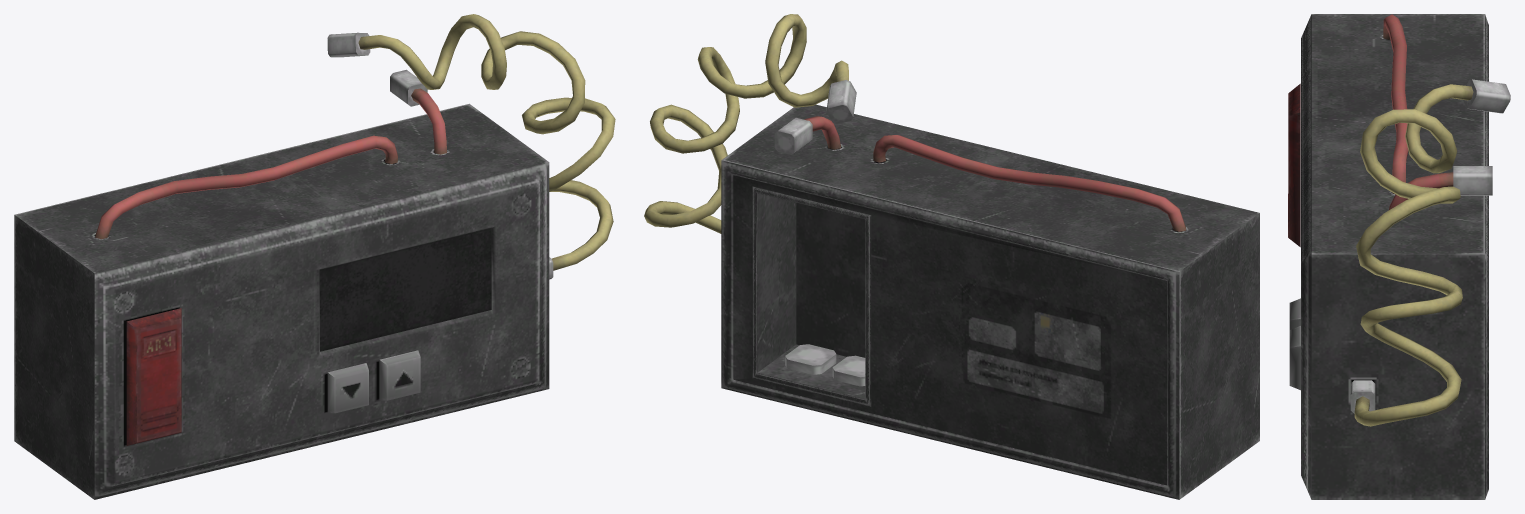
Rendered from sm70_203_blastingfuse01a.fbx.
3 renders of one model, left to right at view 1: azimuth 30°, elevation 25°; view 2: azimuth 150°, elevation 25°; view 3: azimuth 270°, elevation 25°, orthographic. The views are drawn at different scales.
Parts seen in each view (by area): view 1: LOD_1_Group_0_Sub_1__sm70_203_BlastingFuse01A_A_Mat; view 2: LOD_1_Group_0_Sub_1__sm70_203_BlastingFuse01A_A_Mat; view 3: LOD_1_Group_0_Sub_1__sm70_203_BlastingFuse01A_A_Mat.
Part boxes in pixels (left/top/right/bottom): LOD_1_Group_0_Sub_1__sm70_203_BlastingFuse01A_A_Mat: left=14, top=14, right=615, bottom=499; LOD_1_Group_0_Sub_1__sm70_203_BlastingFuse01A_A_Mat: left=644, top=14, right=1259, bottom=499; LOD_1_Group_0_Sub_1__sm70_203_BlastingFuse01A_A_Mat: left=1288, top=14, right=1510, bottom=499.
Bounding box in the file's own units: 0.2077 × 0.1236 × 0.0663.
